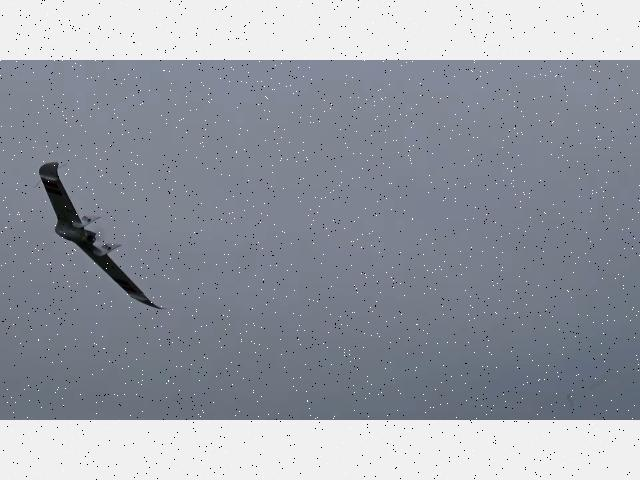Anti-Drone: (38, 163, 164, 310)
